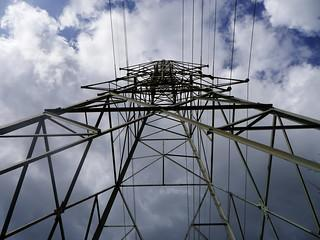power_tower: (0, 54, 320, 240)
